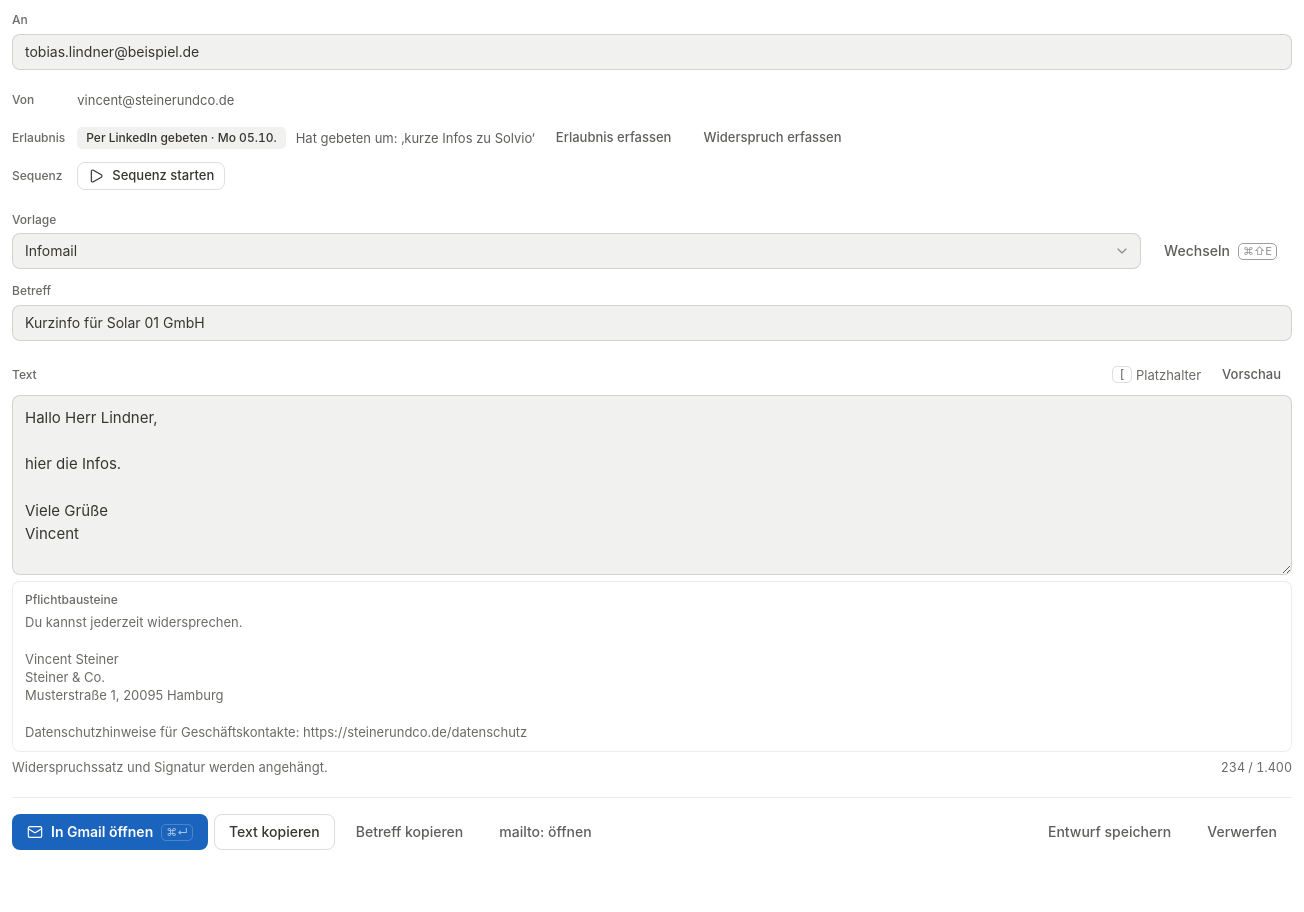
Scenario: Composer › Vorschau zeigt den Versandtext mit Bausteinen
Check: the text with test id "von" reads "vincent@steinerundco.de", box [77,92,234,108]
Click the button "Vorschau" at (1252, 375), box [1211,361,1292,389]
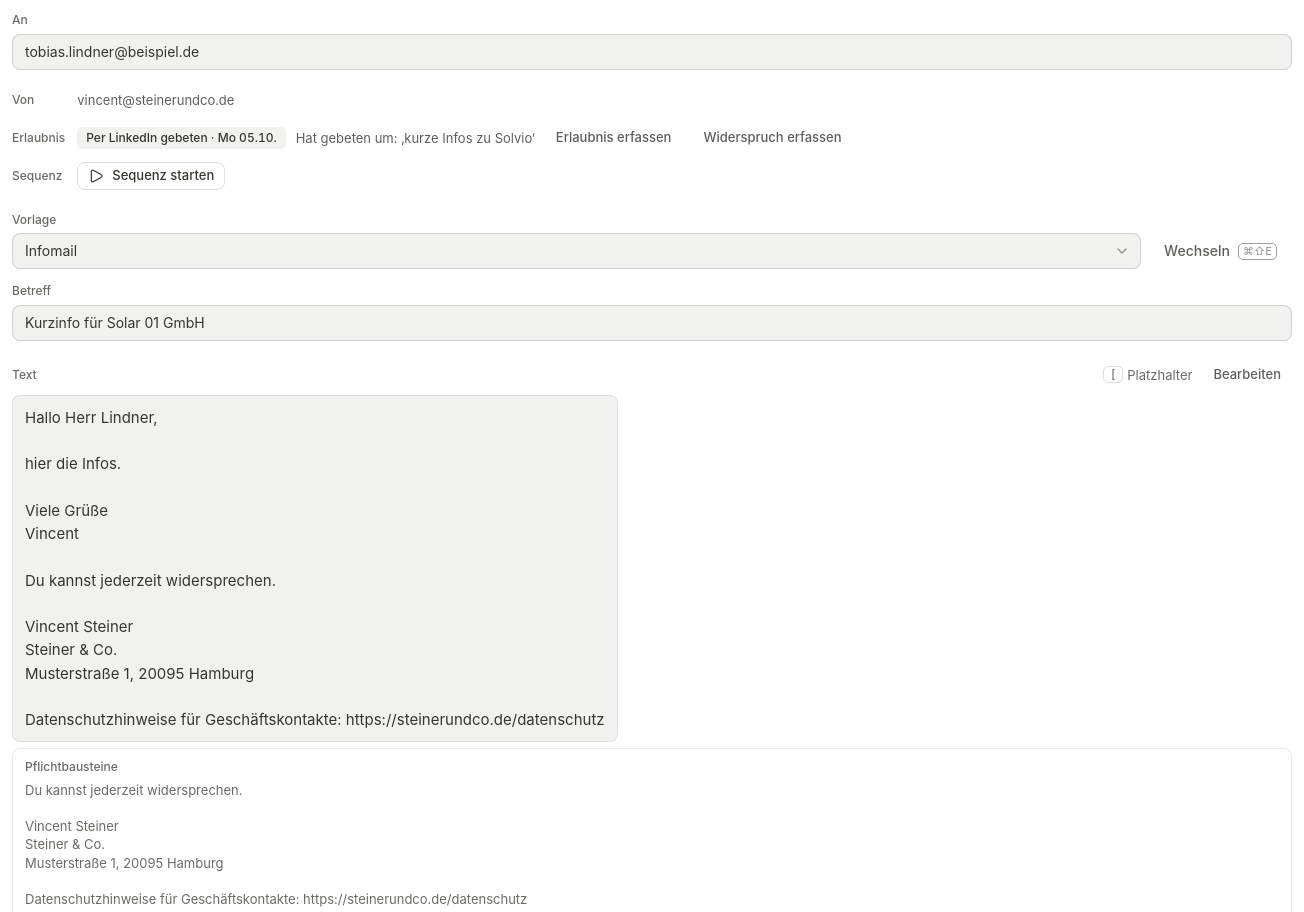
Check: the text with test id "vorschau" shows "Hallo Herr Lindner", box [25,408,605,729]
Check: the text with test id "vorschau" shows "Du kannst jederzeit widersprechen.", box [25,408,605,729]
